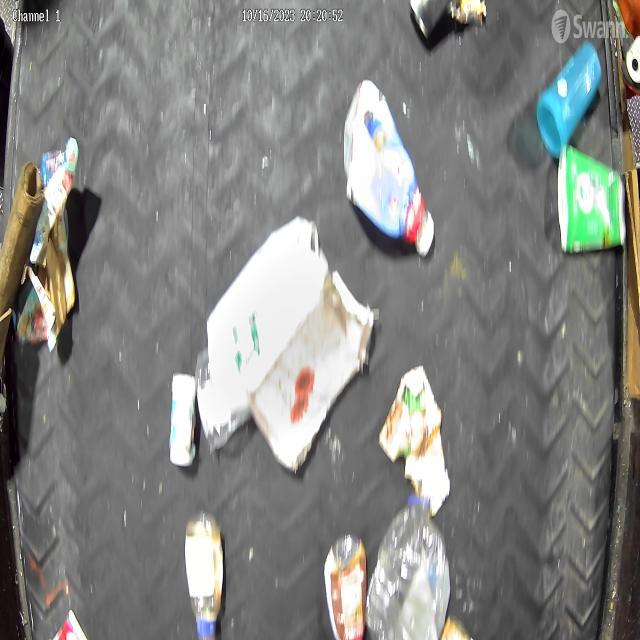milk_jug: (206, 214, 330, 408)
plastic_bottle: (366, 493, 446, 640)
